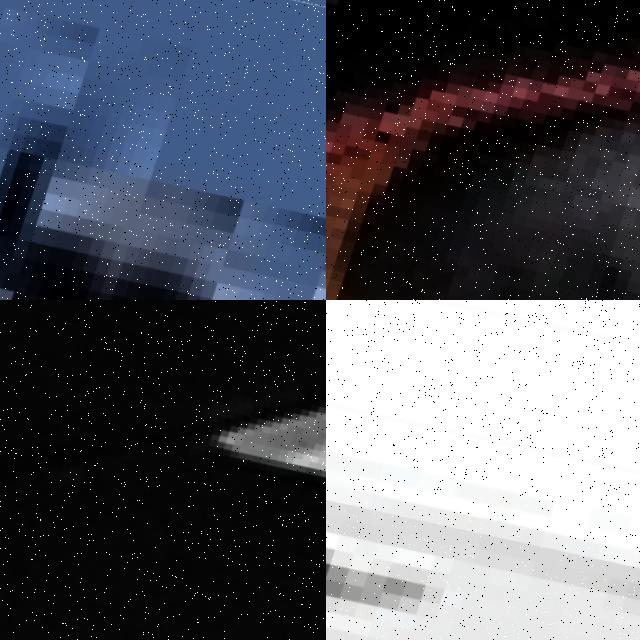0: (0, 0, 326, 300)
drone: (0, 300, 326, 640), (326, 300, 640, 640), (326, 0, 640, 300)
